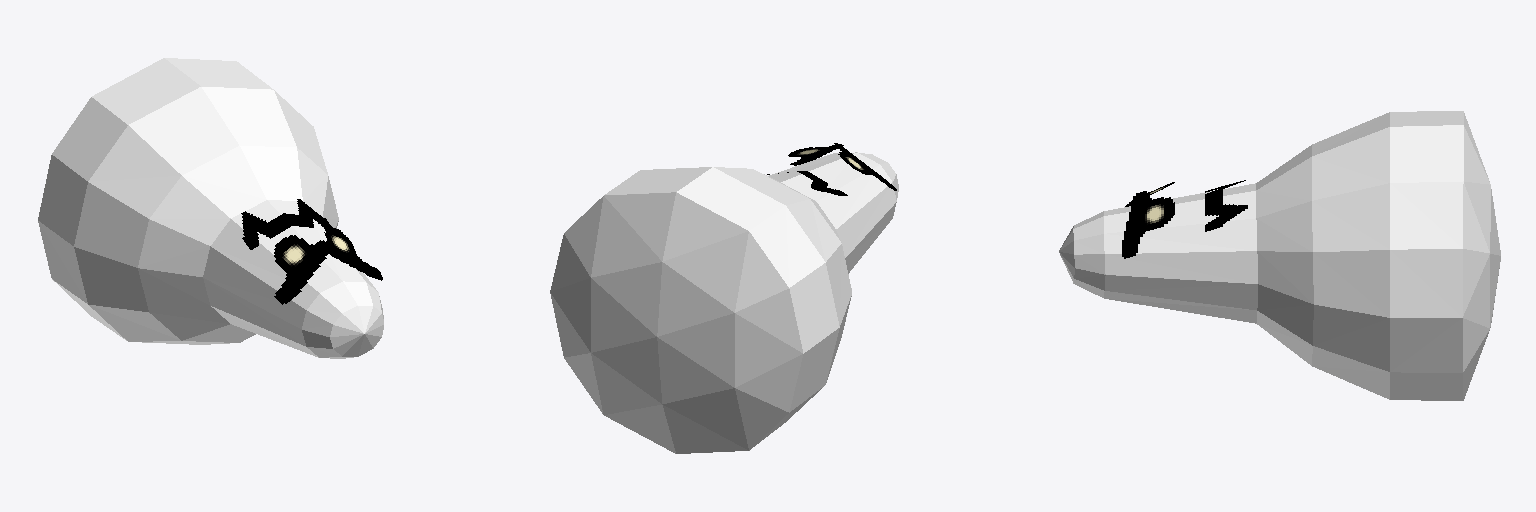
3 renders of one model, left to right at view 1: azimuth 30°, elevation 25°; view 2: azimuth 150°, elevation 25°; view 3: azimuth 270°, elevation 25°, orthographic.
Bounding box in the file's own units: 2.6 × 2.56 × 3.93.
Materials: 3 (2 with a texture image).